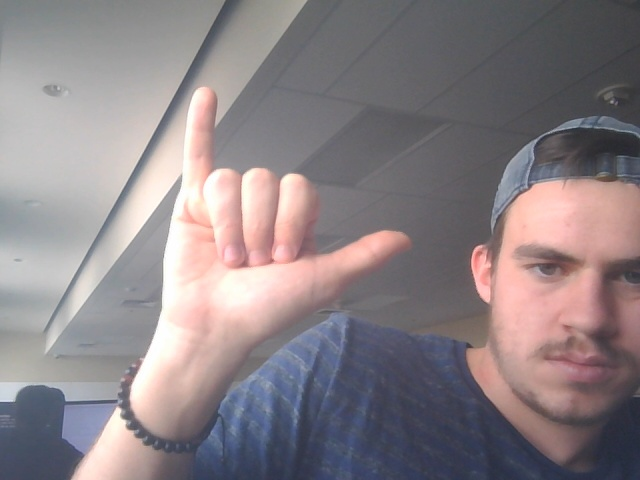birdsup: (165, 79, 419, 338)
